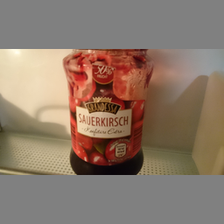jam: (63, 50, 155, 175)
